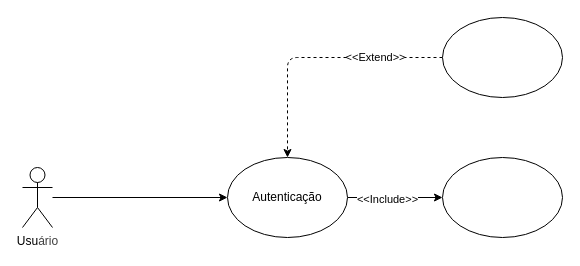
The diagram is 580 pixels wide and 266 high, and some of its shapes have lost their labels. Each missing label, with the centre of its shape:
Credenciais Invalidas: pixel 502 57
Recuperar senha: pixel 502 197
